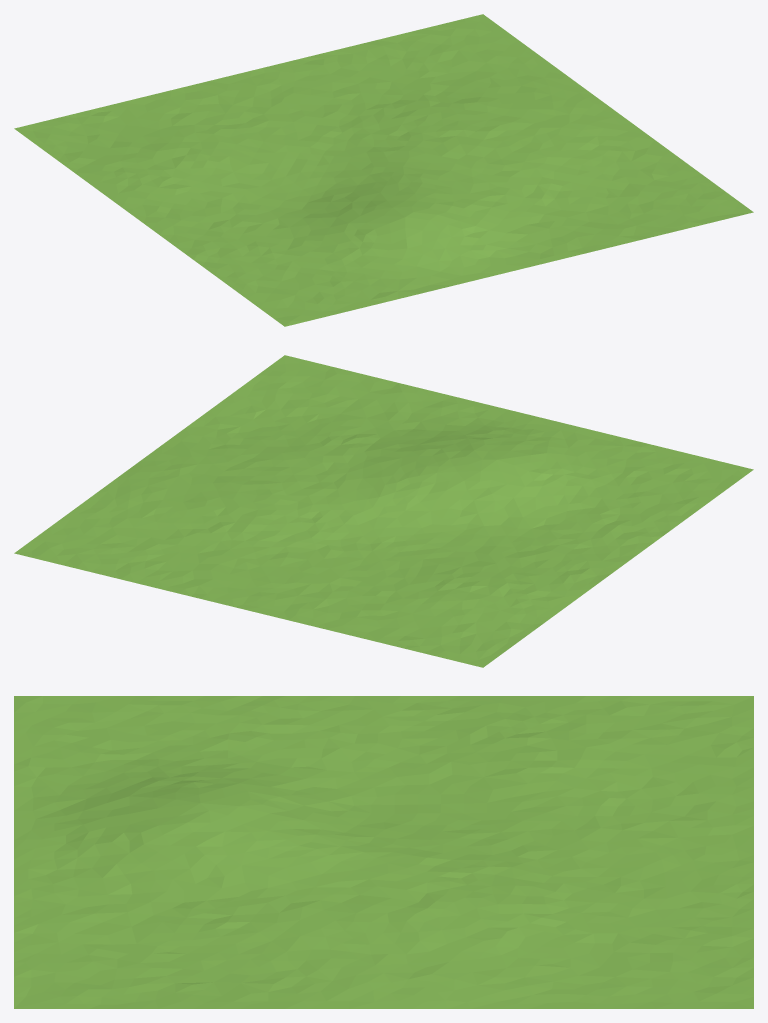
The model's file is MT_Terrain_L_a_02.fbx.
The picture shows the model from 3 angles, top to bottom: view 1: azimuth 30°, elevation 25°; view 2: azimuth 150°, elevation 25°; view 3: azimuth 270°, elevation 25°; orthographic projection. The views are drawn at different scales.
Visible parts, largest first — view 1: MT_Terrain_L_a_02; view 2: MT_Terrain_L_a_02; view 3: MT_Terrain_L_a_02.
Boxes of the visible parts, x1=… form: MT_Terrain_L_a_02: x1=14, y1=14, x2=753, y2=326; MT_Terrain_L_a_02: x1=14, y1=355, x2=753, y2=667; MT_Terrain_L_a_02: x1=14, y1=696, x2=753, y2=1008.
Bounding box in the file's own units: 10001 × 341 × 10000.
